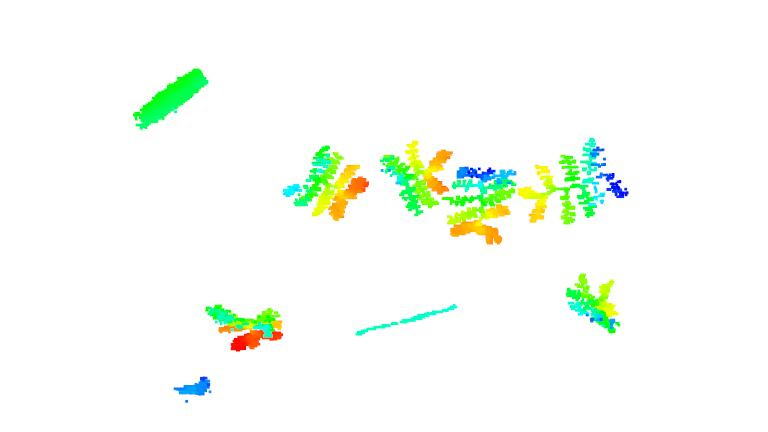chickpea: (517, 137, 631, 225), (280, 145, 370, 224), (376, 137, 456, 218), (448, 163, 517, 244), (203, 297, 289, 355), (564, 269, 625, 336)
